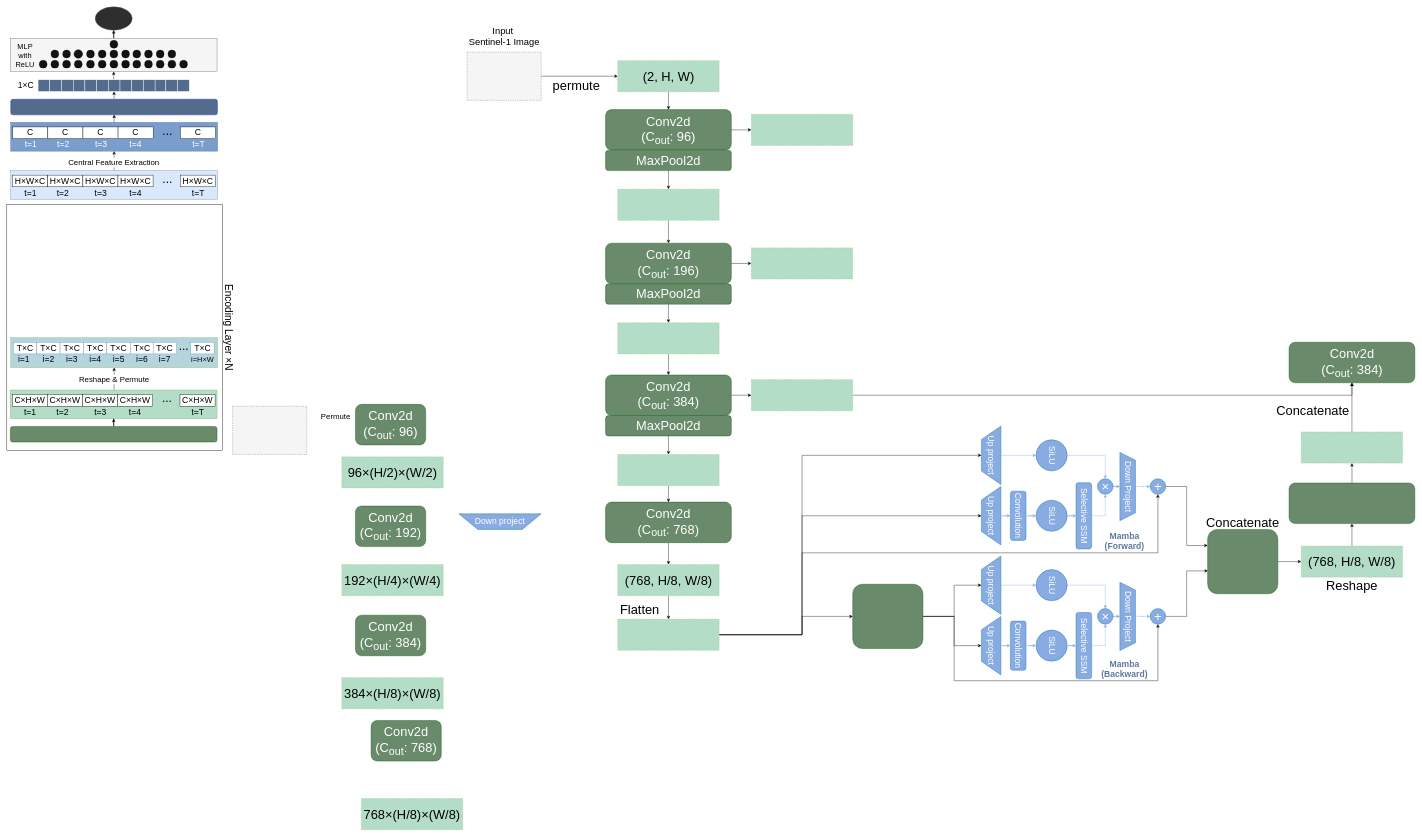
Image size: 1422x837. Some labels were removed from this diagram. The shapes that lost their labels are listed below. From the top down, each one's box as (x1, y1, x2, y2) in pixels, then its label:
(95, 6, 132, 30): Output
(467, 52, 541, 100): (H, W, 2)
(10, 99, 217, 115): Temporal Attention (Aggregation over T)
(751, 114, 853, 145): skip1
(617, 189, 719, 220): (96, H/2, W/2)
(751, 247, 853, 279): skip2
(617, 322, 719, 354): (192, H/4, W/4)
(751, 379, 853, 411): skip3
(10, 426, 217, 442): Conv2d (channel: C)
(232, 406, 307, 454): H×W×C in
(1301, 432, 1403, 463): (384, H/4, W/4)
(617, 454, 719, 486): (384, H/8, W/8)
(1289, 483, 1415, 524): TransConv2d (C out : 384 )
(1207, 529, 1278, 594): Linear Fusion
(617, 619, 719, 650): (H/8×W/8, 768)
(852, 584, 923, 649): Flip sequence (dim=1)
